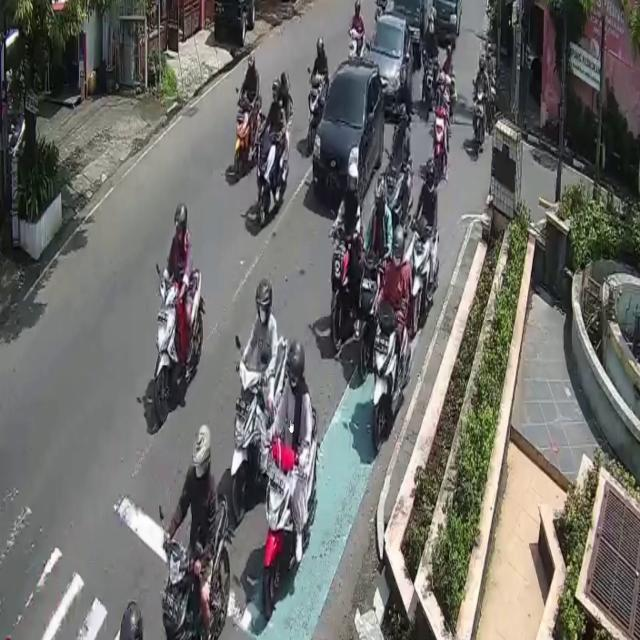car: (314, 55, 384, 204), (368, 11, 413, 116)
motorbike: (263, 406, 317, 618), (232, 334, 287, 520), (162, 491, 230, 640), (155, 266, 204, 422), (373, 308, 409, 448), (412, 212, 439, 332), (328, 229, 352, 356), (359, 256, 381, 379), (236, 94, 263, 178), (257, 128, 279, 222), (434, 102, 445, 184), (474, 88, 484, 155)
